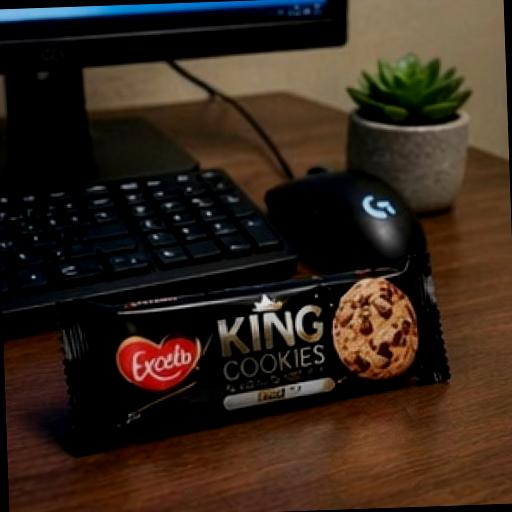king_cooking: (13, 235, 512, 472)
